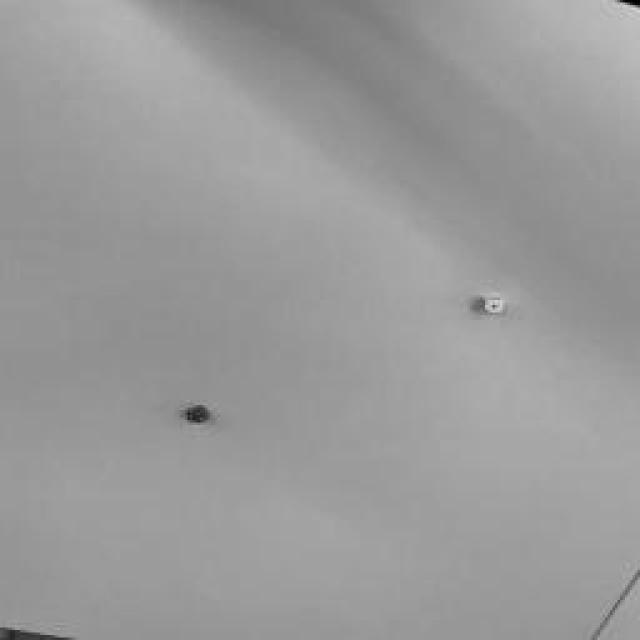dice_1: (485, 301, 503, 314)
dice_4: (188, 411, 208, 424)
